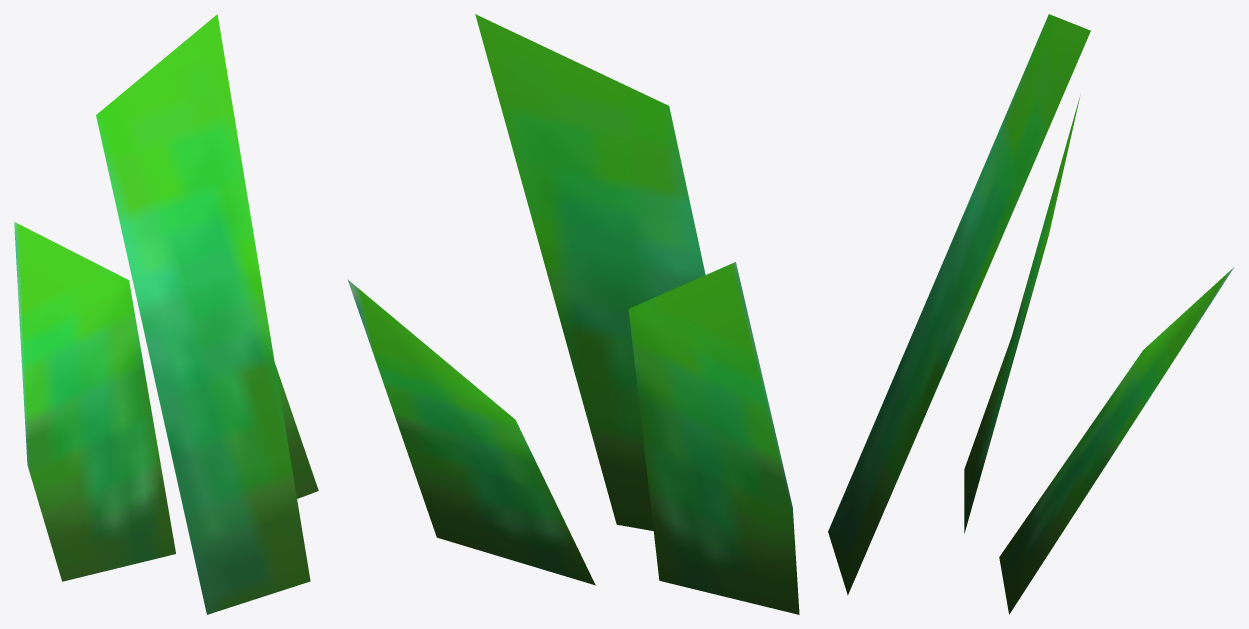
The model's file is fg_grassB.dae.
3 views of the same model, side by side, from view 1: azimuth 30°, elevation 25°; view 2: azimuth 150°, elevation 25°; view 3: azimuth 270°, elevation 25° (orthographic). The views are drawn at different scales.
Parts seen in each view (by area): view 1: fg_grassB; view 2: fg_grassB; view 3: fg_grassB.
Boxes of the visible parts, bbox=[...] form: fg_grassB: bbox=[14, 14, 318, 614]; fg_grassB: bbox=[347, 14, 799, 614]; fg_grassB: bbox=[828, 14, 1234, 614].
Bounding box in the file's own units: 13.26 × 21.31 × 13.76.
1 material, 1 textured.
